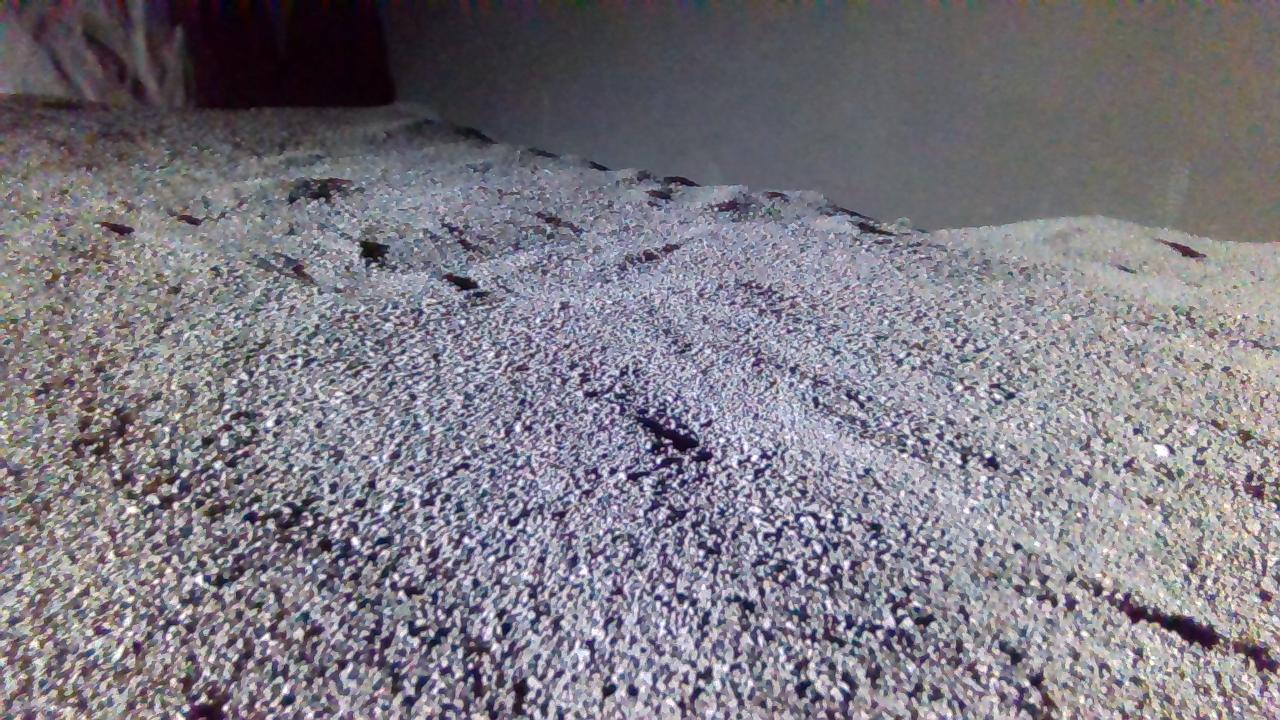rock: (0, 0, 185, 105)
